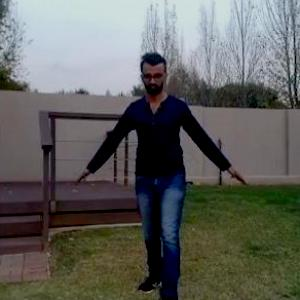land: (86, 52, 250, 295)
